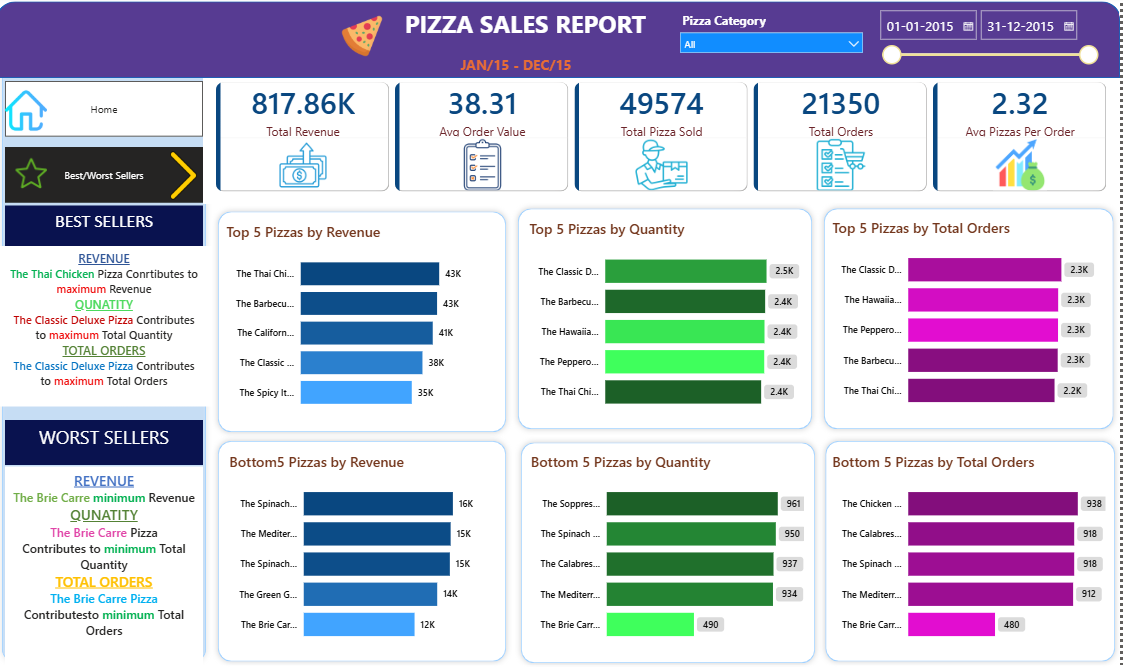

What the dashboard file says about the page in this screenshot:
{"tool":"powerbi","page":{"name":"Best/Worst Sellers","canvas":[1500,893],"ordinal":1},"visuals":[{"type":"shape","box":[0,30,288,860],"z":0},{"type":"textbox","box":[12,274,264,54],"z":1000},{"type":"cardVisual","fields":{"Data":["pizza_sales.Total Revenue","pizza_sales.Avg Order Value","pizza_sales.Total Pizza Sold","pizza_sales.Total Orders","pizza_sales.Avg Pizzas Per Order"]},"box":[276,92,1222,180],"z":2000},{"type":"shape","box":[0,2,1500,102],"z":3000},{"type":"textbox","box":[540,4,356,64],"z":4000},{"type":"textbox","box":[614,68,212,38],"z":5000},{"type":"image","box":[460,10,56,76],"z":6000},{"type":"shape","box":[288,580,400,310],"z":7000},{"type":"shape","box":[692,582,408,310],"z":8000},{"type":"shape","box":[1098,580,402,310],"z":9000},{"type":"textbox","box":[0,328,288,214],"z":10000},{"type":"textbox","box":[12,560,264,60],"z":11000},{"type":"textbox","box":[12,622,264,268],"z":12000},{"type":"slicer","fields":{"Values":["pizza_sales.order_date"]},"box":[1166,4,312,102],"z":13000},{"type":"slicer","fields":{"Values":["pizza_sales.pizza_category"]},"box":[902,10,264,82],"z":14000},{"type":"shape","box":[288,274,400,310],"z":15000},{"type":"shape","box":[688,270,408,310],"z":16000},{"type":"shape","box":[1096,270,402,310],"z":17000},{"type":"barChart","title":"Top 5 Pizzas by Revenue","fields":{"Category":["pizza_sales.pizza_name"],"Y":["pizza_sales.Total Revenue"]},"box":[302,296,364,264],"z":18000},{"type":"barChart","title":"Bottom5 Pizzas by Revenue","fields":{"Category":["pizza_sales.pizza_name"],"Y":["pizza_sales.Total Revenue"]},"box":[306,602,364,268],"z":19000},{"type":"barChart","title":"Top 5 Pizzas by Quantity","fields":{"Category":["pizza_sales.pizza_name"],"Y":["pizza_sales.Total Pizza Sold"]},"box":[706,292,374,268],"z":20000},{"type":"barChart","title":"Bottom 5 Pizzas by Quantity","fields":{"Category":["pizza_sales.pizza_name"],"Y":["pizza_sales.Total Pizza Sold"]},"box":[708,602,374,268],"z":21000},{"type":"barChart","title":"Top 5 Pizzas by Total Orders","fields":{"Category":["pizza_sales.pizza_name"],"Y":["pizza_sales.Total Orders"]},"box":[1110,290,374,268],"z":22000},{"type":"barChart","title":"Bottom 5 Pizzas by Total Orders","fields":{"Category":["pizza_sales.pizza_name"],"Y":["pizza_sales.Total Orders"]},"box":[1110,602,374,268],"z":23000},{"type":"pageNavigator","box":[12,196,264,74],"z":24000},{"type":"pageNavigator","box":[12,108,264,74],"z":25000},{"type":"image","box":[212,202,76,64],"z":26000},{"type":"image","box":[12,100,56,94],"z":27000},{"type":"image","box":[26,196,42,70],"z":28000}]}

Visuals, with their boxes in screenshot pixels (x1, y1, x2, y2), scaled from the page's 1500x893 canvas onto the 1123x667 screenshot:
shape: box(0, 22, 216, 665)
textbox: box(9, 205, 207, 245)
cardVisual - pizza_sales.Total Revenue x pizza_sales.Avg Order Value: box(207, 69, 1122, 203)
shape: box(0, 1, 1122, 78)
textbox: box(404, 3, 671, 51)
textbox: box(460, 51, 618, 79)
image: box(344, 7, 386, 64)
shape: box(216, 433, 515, 665)
shape: box(518, 435, 824, 666)
shape: box(822, 433, 1122, 665)
textbox: box(0, 245, 216, 405)
textbox: box(9, 418, 207, 463)
textbox: box(9, 465, 207, 665)
slicer - pizza_sales.order_date: box(873, 3, 1107, 79)
slicer - pizza_sales.pizza_category: box(675, 7, 873, 69)
shape: box(216, 205, 515, 436)
shape: box(515, 202, 821, 433)
shape: box(821, 202, 1122, 433)
"Top 5 Pizzas by Revenue" barChart: box(226, 221, 499, 418)
"Bottom5 Pizzas by Revenue" barChart: box(229, 450, 502, 650)
"Top 5 Pizzas by Quantity" barChart: box(529, 218, 809, 418)
"Bottom 5 Pizzas by Quantity" barChart: box(530, 450, 810, 650)
"Top 5 Pizzas by Total Orders" barChart: box(831, 217, 1111, 417)
"Bottom 5 Pizzas by Total Orders" barChart: box(831, 450, 1111, 650)
pageNavigator: box(9, 146, 207, 202)
pageNavigator: box(9, 81, 207, 136)
image: box(159, 151, 216, 199)
image: box(9, 75, 51, 145)
image: box(19, 146, 51, 199)
